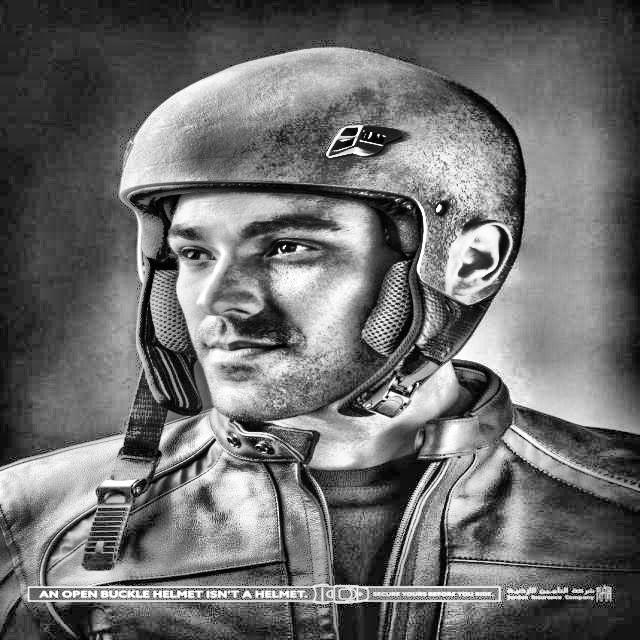Helmet: (63, 39, 535, 578)
